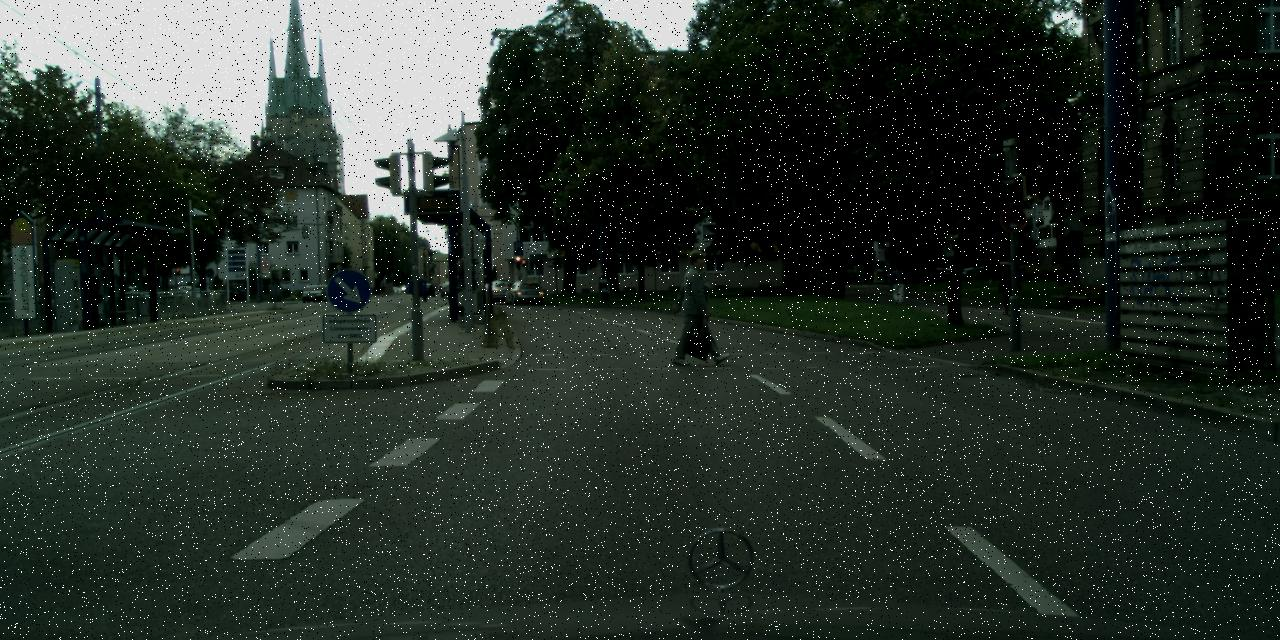ped: (676, 249, 722, 365), (452, 257, 478, 322), (996, 252, 1021, 314), (77, 266, 101, 328), (889, 262, 906, 304)
